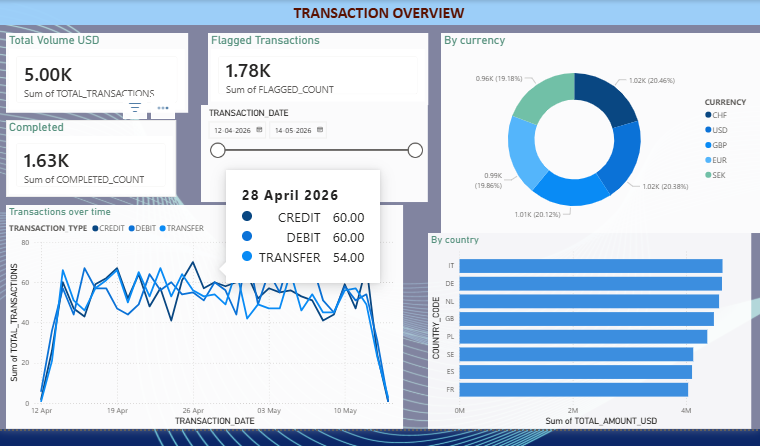

The page's visual inventory and layout, read from the dashboard file:
{"tool":"powerbi","page":{"name":" Transaction Overview","canvas":[1280,720],"ordinal":0},"visuals":[{"type":"cardVisual","title":"Total Volume USD","fields":{"Data":["Sum(FCT_TRANSACTIONS_DAILY (2).TOTAL_TRANSACTIONS)"]},"box":[13.4,55.4,305.7,134.4],"z":0},{"type":"cardVisual","title":"Completed","fields":{"Data":["Sum(FCT_TRANSACTIONS_DAILY (2).COMPLETED_COUNT)"]},"box":[13.4,201.6,285.6,129.3],"z":1000},{"type":"cardVisual","title":"Flagged Transactions","fields":{"Data":["Sum(FCT_TRANSACTIONS_DAILY (2).FLAGGED_COUNT)"]},"box":[352.8,55.4,369.6,120.9],"z":2000},{"type":"lineChart","title":"Transactions over time","fields":{"Category":["FCT_TRANSACTIONS_DAILY (2).TRANSACTION_DATE"],"Y":["Sum(FCT_TRANSACTIONS_DAILY (2).TOTAL_TRANSACTIONS)"],"Series":["FCT_TRANSACTIONS_DAILY (2).TRANSACTION_TYPE"]},"box":[13.4,344.4,666.9,376.3],"z":3000},{"type":"clusteredBarChart","title":"By country","fields":{"Category":["FCT_TRANSACTIONS_DAILY (2).COUNTRY_CODE"],"Y":["Sum(FCT_TRANSACTIONS_DAILY (2).TOTAL_AMOUNT_USD)"]},"box":[722.3,391.4,542.6,329.2],"z":4000},{"type":"donutChart","title":"By currency","fields":{"Category":["FCT_TRANSACTIONS_DAILY (2).CURRENCY"],"Y":["Sum(FCT_TRANSACTIONS_DAILY (2).TOTAL_TRANSACTIONS)"]},"box":[744.1,55.4,535.9,336],"z":5000},{"type":"slicer","fields":{"Values":["FCT_TRANSACTIONS_DAILY (2).TRANSACTION_DATE"]},"box":[341,176.4,381.3,162.9],"z":6000},{"type":"textbox","box":[0,0,1280,42],"z":7000}]}

Visuals, with their boxes on the page's 1280x720 design canvas (x1, y1, x2, y2). These are canvas units, not pixel positions in the 760x446 screenshot, which may show the page scaled, cropped or inside an application window:
"Total Volume USD" cardVisual: locate(13, 55, 319, 190)
"Completed" cardVisual: locate(13, 202, 299, 331)
"Flagged Transactions" cardVisual: locate(353, 55, 722, 176)
"Transactions over time" lineChart: locate(13, 344, 680, 721)
"By country" clusteredBarChart: locate(722, 391, 1265, 721)
"By currency" donutChart: locate(744, 55, 1280, 391)
slicer - FCT_TRANSACTIONS_DAILY (2).TRANSACTION_DATE: locate(341, 176, 722, 339)
textbox: locate(0, 0, 1280, 42)
